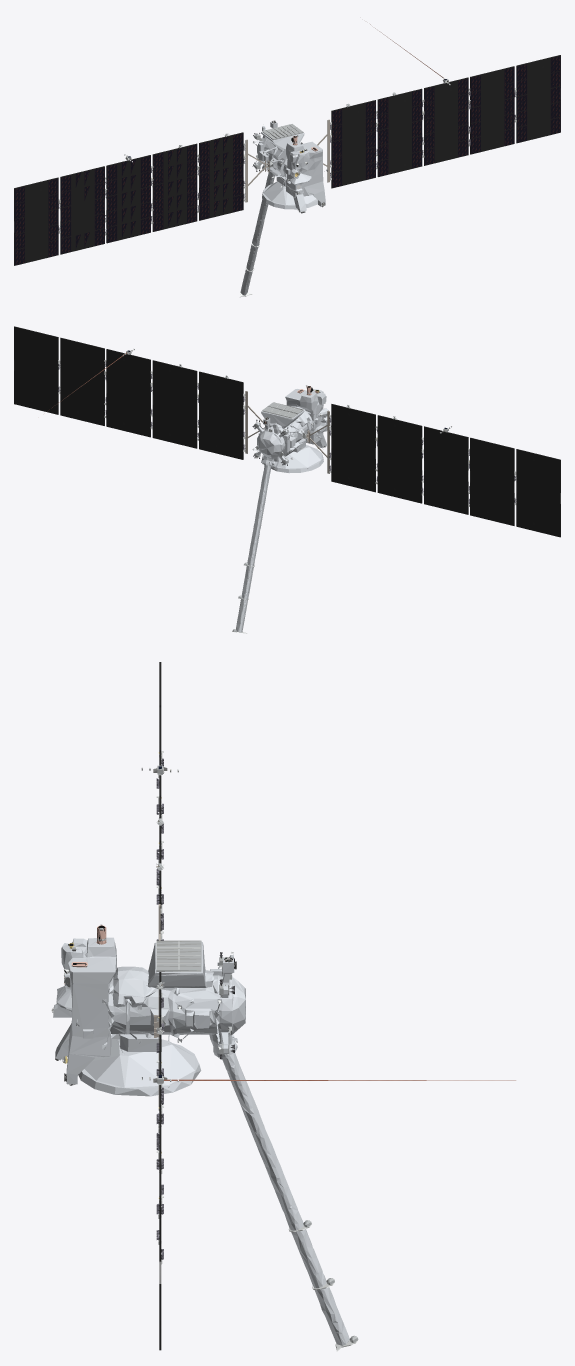
File: europa-clipper.glb
The picture shows the model from 3 angles, top to bottom: view 1: azimuth 30°, elevation 25°; view 2: azimuth 150°, elevation 25°; view 3: azimuth 270°, elevation 25°; orthographic projection. The views are drawn at different scales.
Parts seen in each view (by area): view 1: solar_cells_chassis, solar_cells, blanket_hideable, blanket_soft, bus_exposed, blanket_hard; view 2: solar_cells_chassis, blanket_hideable, blanket_soft, bus_exposed, blanket_hard; view 3: blanket_hideable, blanket_soft, solar_cells_chassis, bus_exposed, blanket_hard, reason.
Boxes of the visible parts, x1=… form: solar_cells_chassis: x1=14, y1=55, x2=560, y2=265; solar_cells: x1=14, y1=56, x2=560, y2=264; blanket_hideable: x1=240, y1=122, x2=325, y2=295; blanket_soft: x1=254, y1=127, x2=316, y2=204; bus_exposed: x1=252, y1=124, x2=327, y2=213; blanket_hard: x1=253, y1=141, x2=327, y2=209; solar_cells_chassis: x1=14, y1=326, x2=560, y2=537; blanket_hideable: x1=236, y1=389, x2=331, y2=632; blanket_soft: x1=254, y1=406, x2=320, y2=468; bus_exposed: x1=252, y1=402, x2=327, y2=465; blanket_hard: x1=253, y1=413, x2=327, y2=473; blanket_hideable: x1=53, y1=937, x2=349, y2=1345; blanket_soft: x1=84, y1=942, x2=245, y2=1087; solar_cells_chassis: x1=154, y1=662, x2=163, y2=1350; bus_exposed: x1=55, y1=940, x2=234, y2=1062; blanket_hard: x1=76, y1=962, x2=221, y2=1096; reason: x1=141, y1=765, x2=515, y2=1084.
Size of the model in its own units: 30.5 by 11.25 by 11.4.
16 materials, 13 textured.
